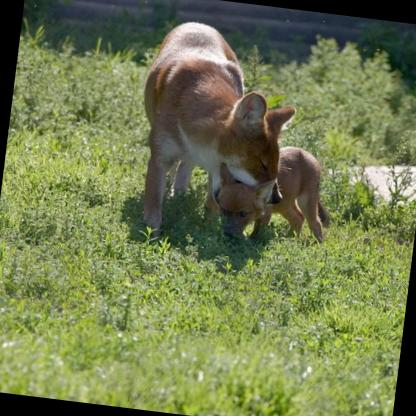dhole: (124, 14, 304, 250), (208, 134, 342, 252)
